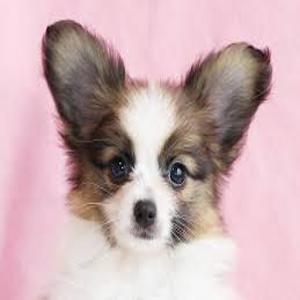yell: (41, 19, 271, 298)
